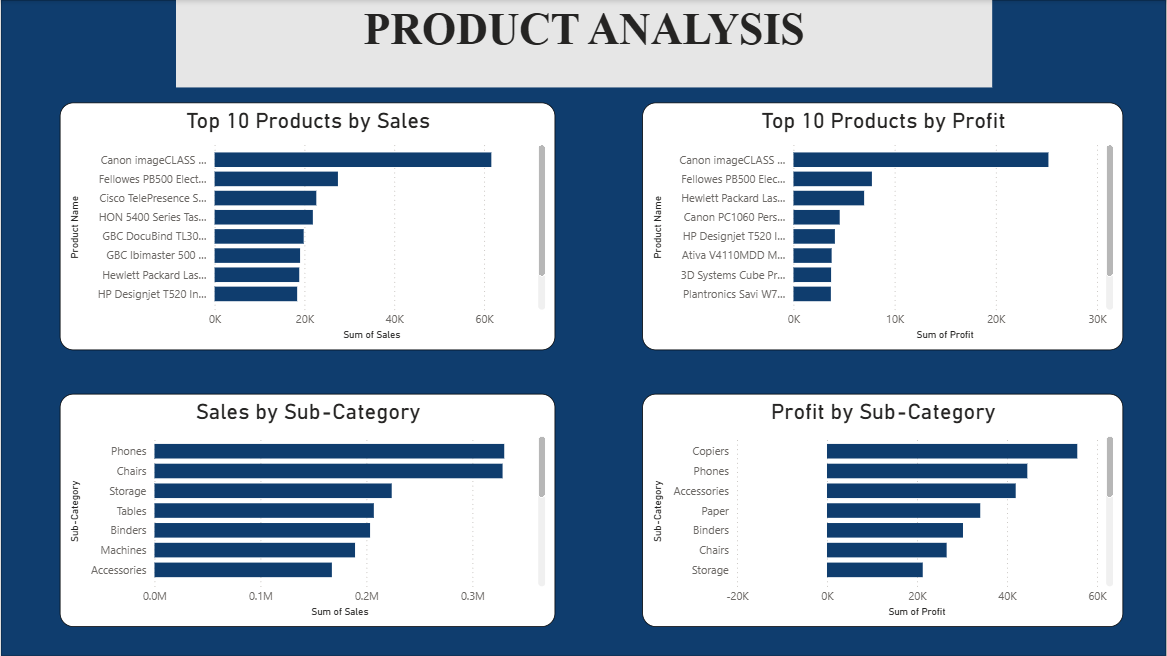

Layout of this report page (visuals, bound fields, positions):
{"tool":"powerbi","page":{"name":"Page 1","canvas":[1280,720],"ordinal":2},"visuals":[{"type":"shape","box":[0,0,1280,720],"z":0},{"type":"textbox","box":[192,0,896,96],"z":1000},{"type":"clusteredBarChart","title":"Top 10 Products by Sales","fields":{"Category":["superstore_data.Product Name"],"Y":["Sum(superstore_data.Sales)"]},"box":[64,112,544,272],"z":2000},{"type":"clusteredBarChart","title":"Top 10 Products by Profit","fields":{"Y":["Sum(superstore_data.Profit)"],"Category":["superstore_data.Product Name"]},"box":[704,112,528,272],"z":3000},{"type":"clusteredBarChart","title":"Sales by Sub-Category","fields":{"Category":["superstore_data.Sub-Category"],"Y":["Sum(superstore_data.Sales)"]},"box":[64,432,544,256],"z":4000},{"type":"clusteredBarChart","title":"Profit by Sub-Category","fields":{"Category":["superstore_data.Sub-Category"],"Y":["Sum(superstore_data.Profit)"]},"box":[704,432,528,256],"z":5000}]}

Visuals, with their boxes in screenshot pixels (x1, y1, x2, y2), scaled from the page's 1280x720 canvas onto the 1167x656 screenshot:
shape: (0,0,1166,655)
textbox: (175,0,992,87)
"Top 10 Products by Sales" clusteredBarChart: (58,102,554,350)
"Top 10 Products by Profit" clusteredBarChart: (642,102,1123,350)
"Sales by Sub-Category" clusteredBarChart: (58,394,554,627)
"Profit by Sub-Category" clusteredBarChart: (642,394,1123,627)
